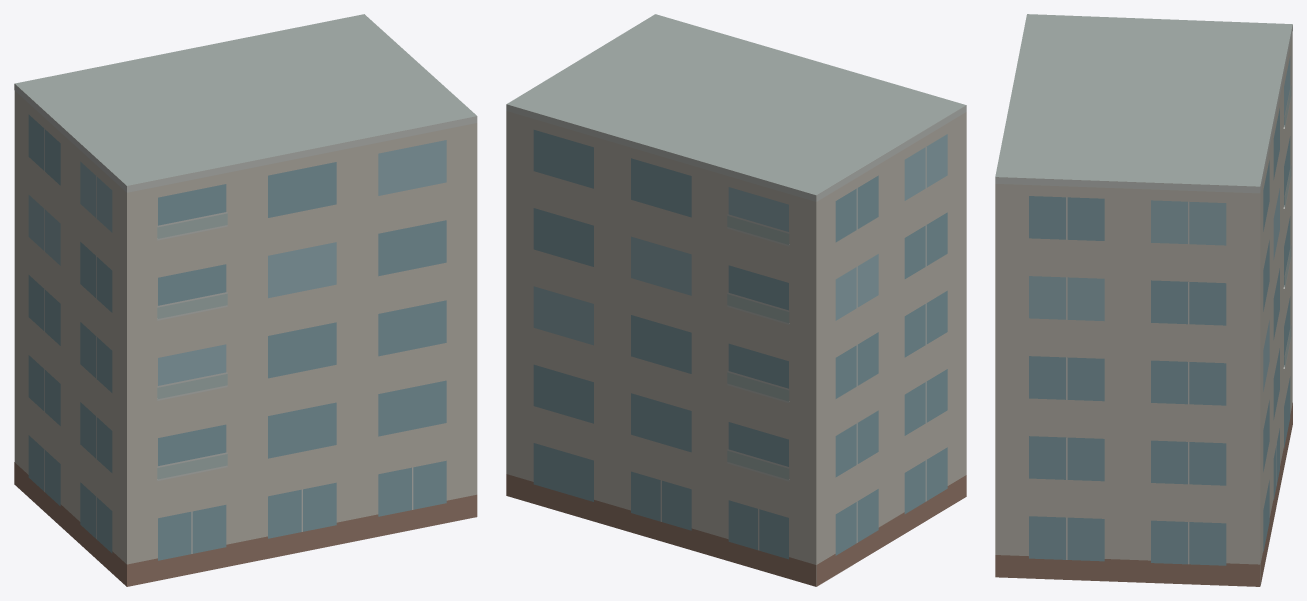
The model's file is survey-upis-32533768.glb.
3 renders of one model, left to right at view 1: azimuth 30°, elevation 25°; view 2: azimuth 150°, elevation 25°; view 3: azimuth 270°, elevation 25°, orthographic. The views are drawn at different scales.
Visible parts, largest first — view 1: survey-upis-32533768.tmp; view 2: survey-upis-32533768.tmp; view 3: survey-upis-32533768.tmp.
Part boxes in pixels (x1=…): survey-upis-32533768.tmp: x1=14, y1=14, x2=477, y2=586; survey-upis-32533768.tmp: x1=506, y1=14, x2=966, y2=586; survey-upis-32533768.tmp: x1=995, y1=14, x2=1292, y2=586.
Size of the model in its own units: 13.24 by 14.3 by 9.65.
